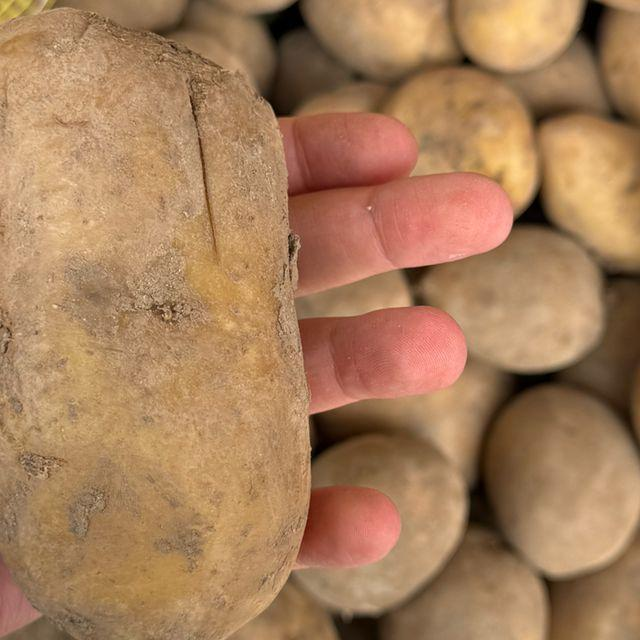potato: (0, 0, 382, 640)
